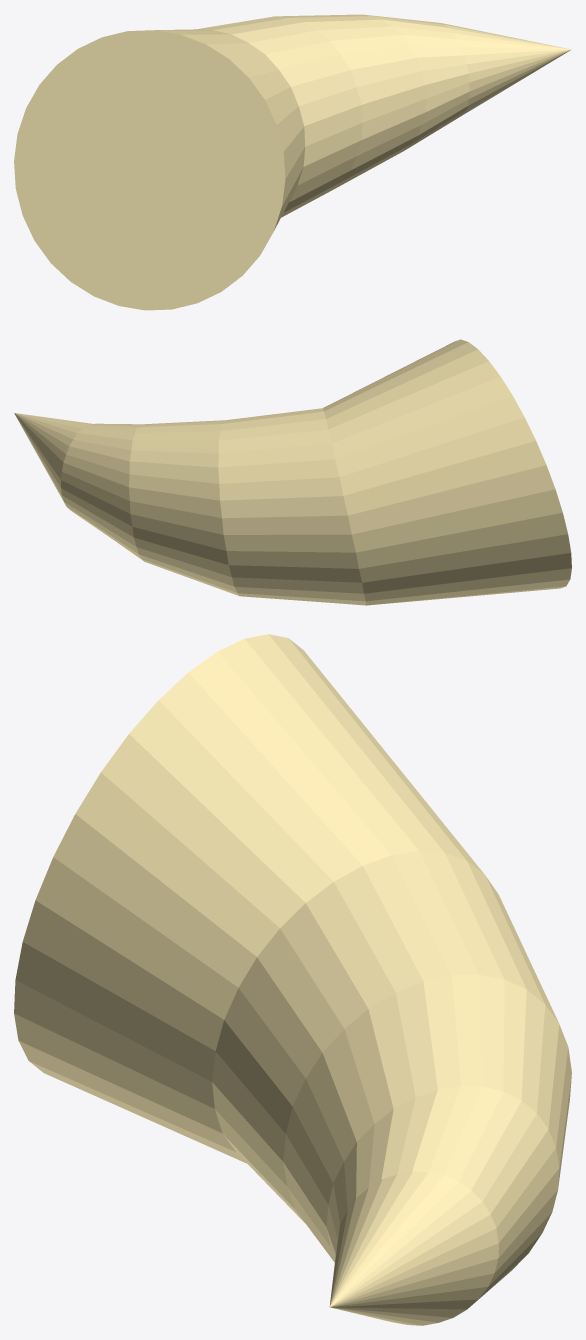
The model's file is tigertooth.fbx.
The picture shows the model from 3 angles, top to bottom: view 1: azimuth 30°, elevation 25°; view 2: azimuth 150°, elevation 25°; view 3: azimuth 270°, elevation 25°; orthographic projection. The views are drawn at different scales.
Visible parts, largest first — view 1: Cone; view 2: Cone; view 3: Cone.
Part boxes in pixels (x1,y1,x2,y2): Cone: (14, 14, 571, 310); Cone: (14, 339, 571, 605); Cone: (14, 634, 571, 1325).
Size of the model in its own units: 651 by 278 by 316.
